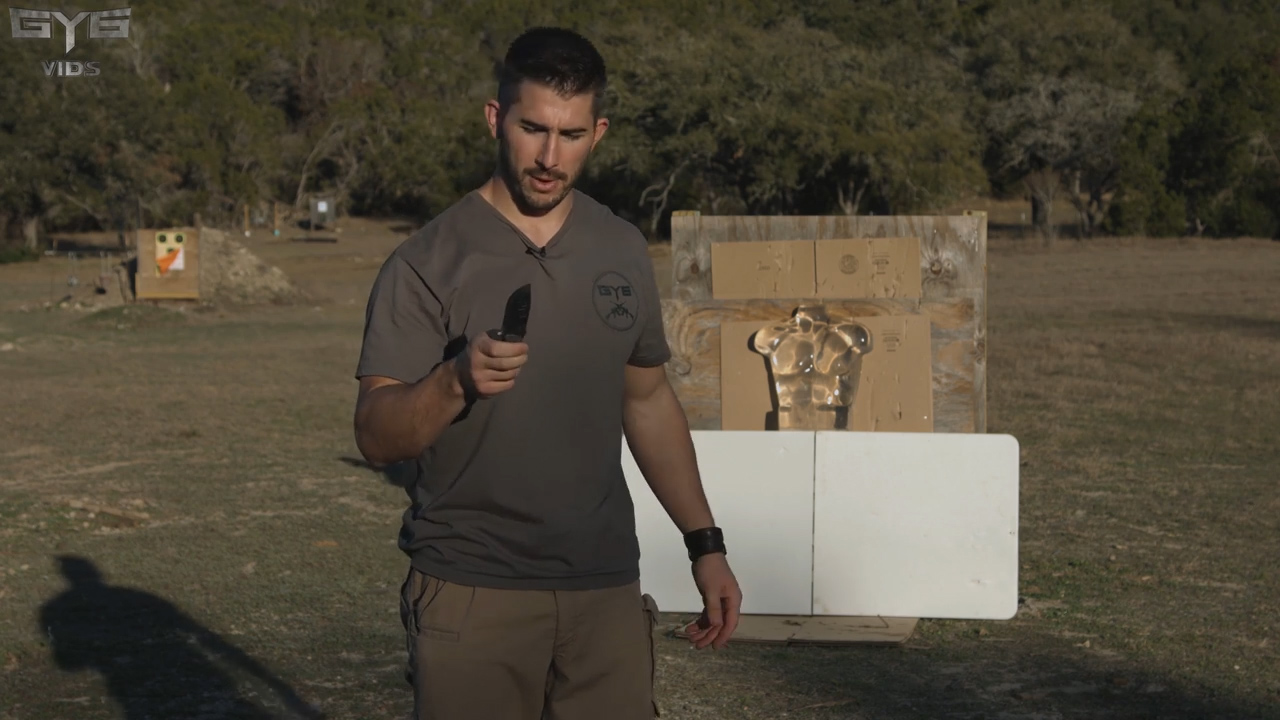knife: (472, 276, 541, 391)
